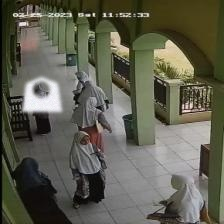Mukena: (22, 77, 61, 111)
